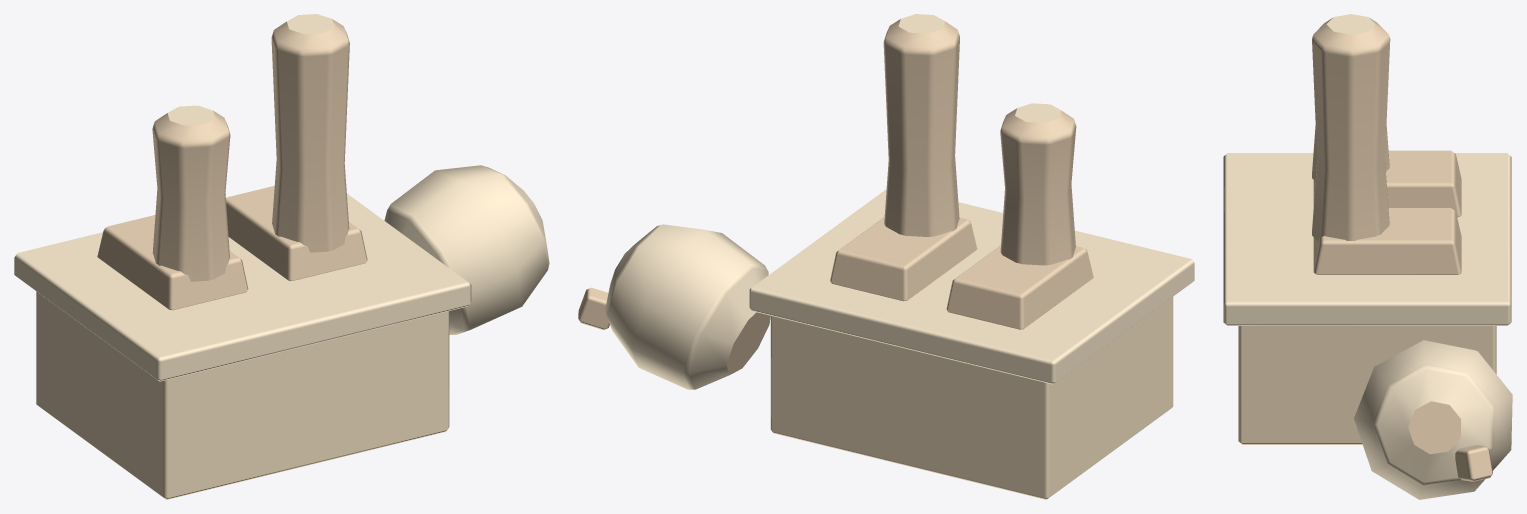
File: prop_statue.glb
3 views of the same model, side by side, from view 1: azimuth 30°, elevation 25°; view 2: azimuth 150°, elevation 25°; view 3: azimuth 270°, elevation 25° (orthographic). The views are drawn at different scales.
Visible parts, largest first — view 1: prop_statue; view 2: prop_statue; view 3: prop_statue.
Boxes of the visible parts, x1=… form: prop_statue: x1=14, y1=14, x2=549, y2=499; prop_statue: x1=578, y1=14, x2=1194, y2=499; prop_statue: x1=1223, y1=14, x2=1512, y2=499.
Bounding box in the file's own units: 4.24 × 3.1 × 2.13.
